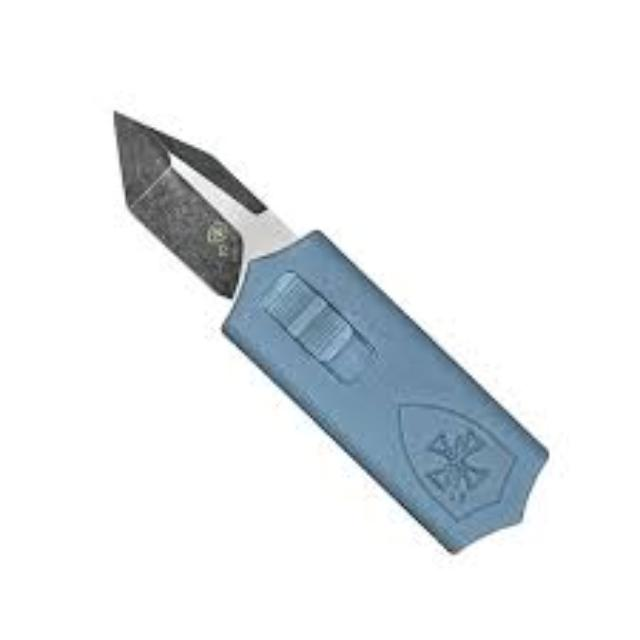knife: (111, 108, 549, 554)
